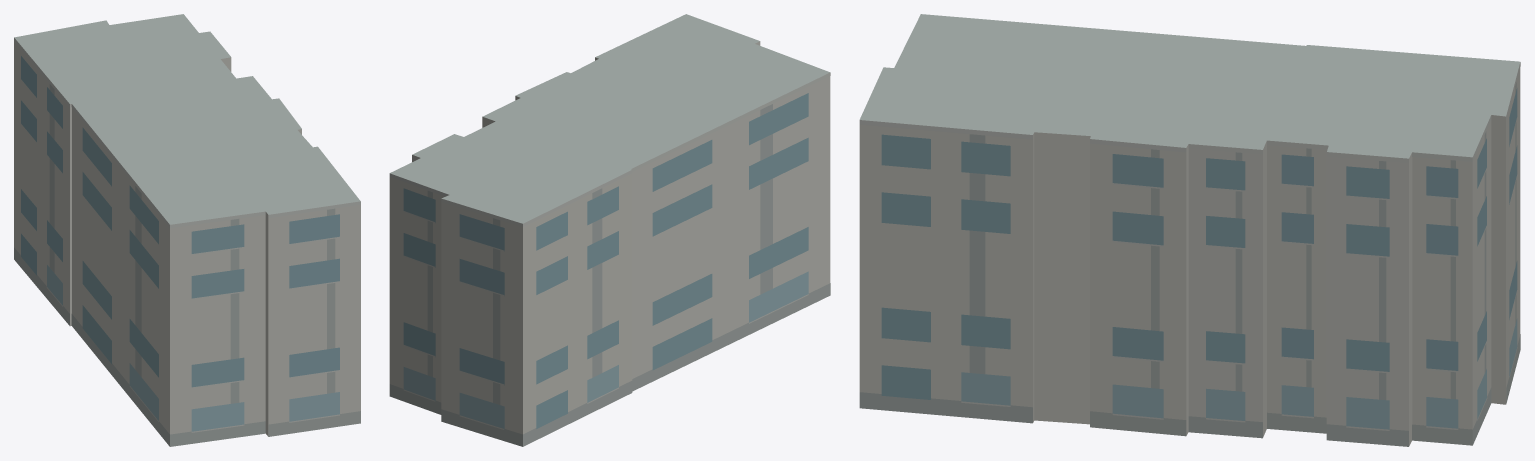
The model's file is survey-upis-32737299.glb.
3 renders of one model, left to right at view 1: azimuth 30°, elevation 25°; view 2: azimuth 150°, elevation 25°; view 3: azimuth 270°, elevation 25°, orthographic. The views are drawn at different scales.
Visible parts, largest first — view 1: survey-upis-32737299.tmp; view 2: survey-upis-32737299.tmp; view 3: survey-upis-32737299.tmp.
Part boxes in pixels (<box>): survey-upis-32737299.tmp: <box>14,14,360,446</box>; survey-upis-32737299.tmp: <box>389,14,830,446</box>; survey-upis-32737299.tmp: <box>859,14,1520,446</box>.
Size of the model in its own units: 16.42 by 15.25 by 31.7.
